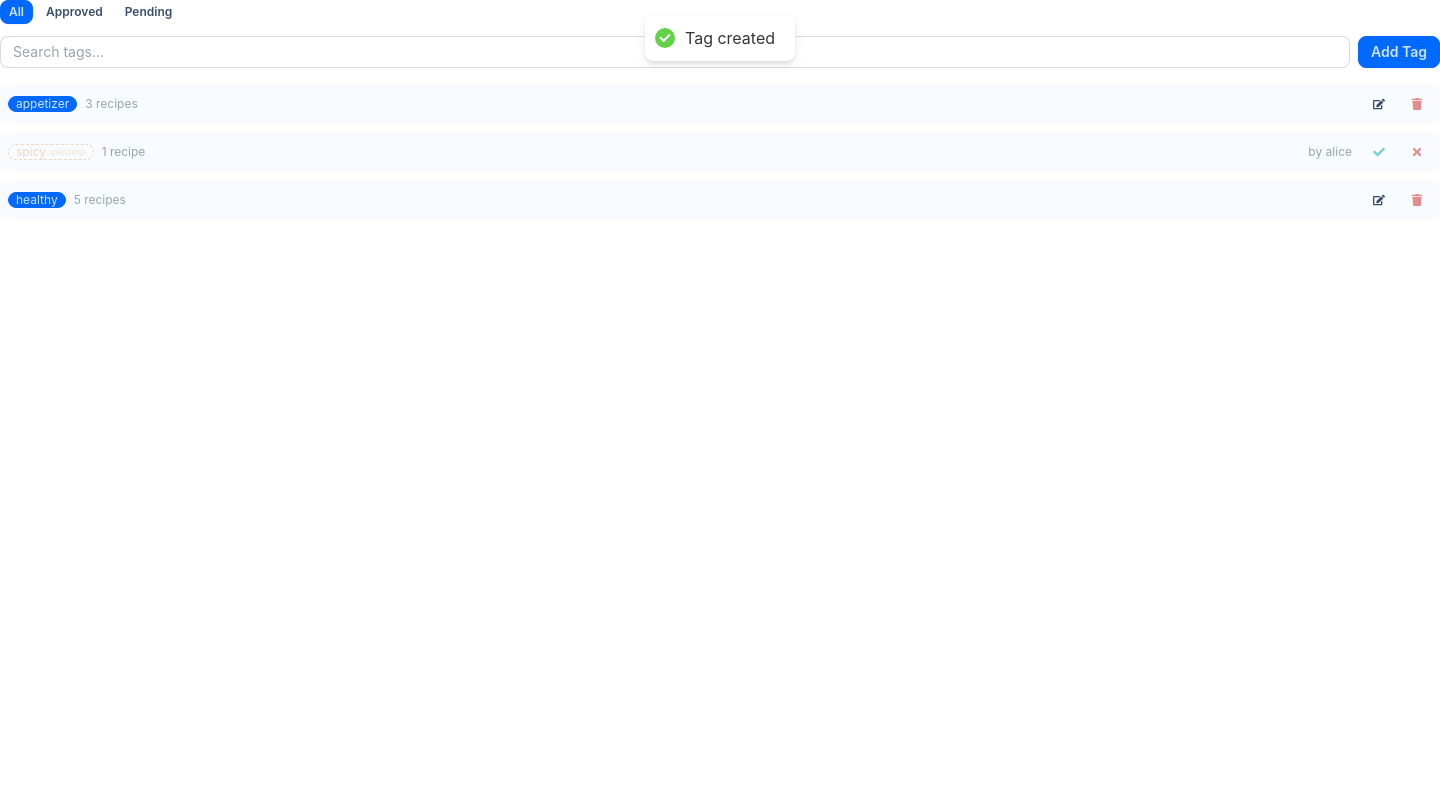
Test case: CommunityTagsList › should open edit modal and save
Check: the text "appetizer" is shown, box x1=8 y1=96 x2=77 y2=112
Click edit on the first APPROVED tag
Click the button titled "Edit" in the row of "appetizer". click: [1379, 104]
box: x1=1364 y1=92 x2=1394 y2=116
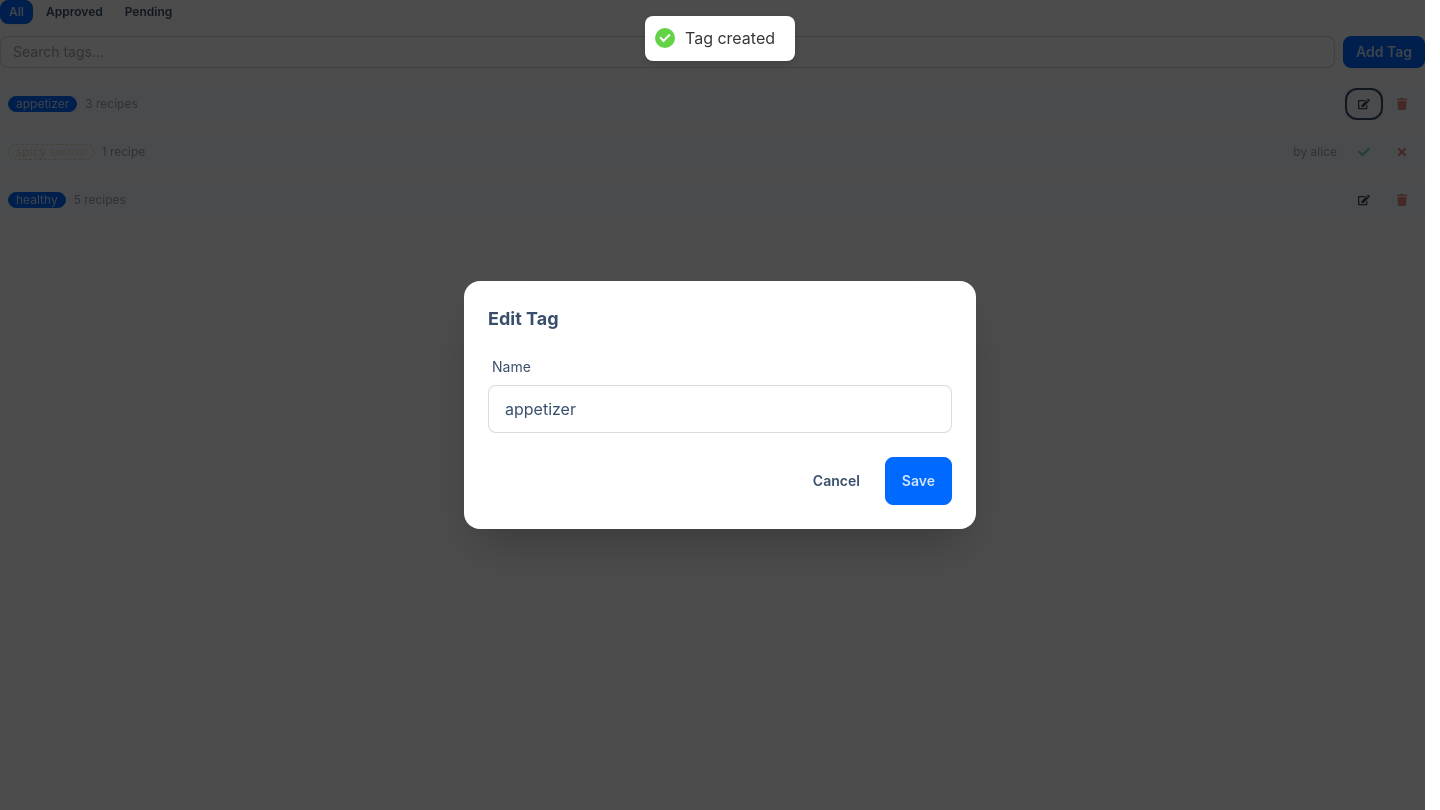
Check: the heading "Edit Tag" is shown, box x1=488 y1=308 x2=558 y2=329
Replace the text in the field with "updated". click: [720, 409]
box: x1=488 y1=385 x2=952 y2=433
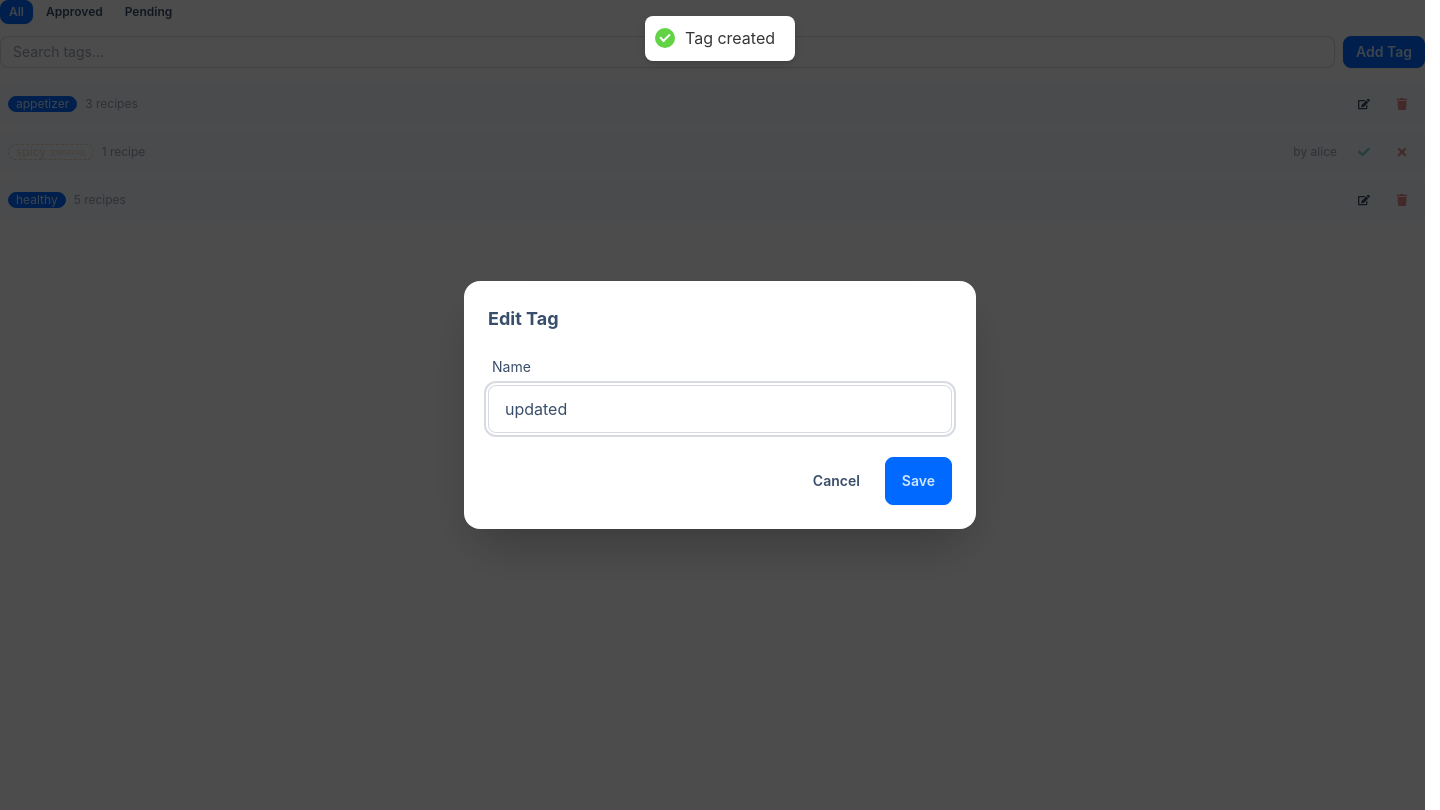
Click the button "Save". click: [918, 481]
box: x1=885 y1=457 x2=952 y2=505
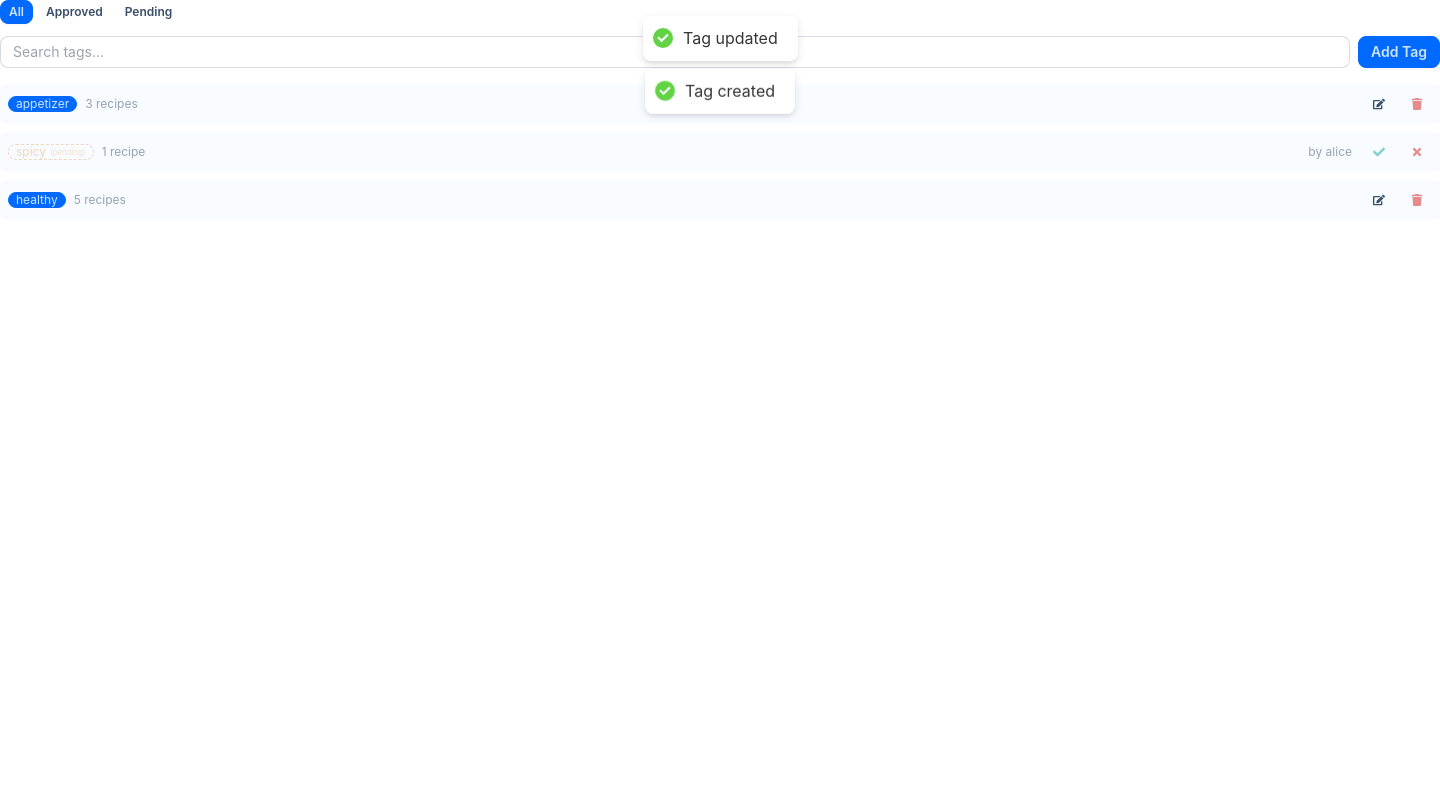
Check: the text "Tag updated" is shown, box x1=683 y1=28 x2=777 y2=49
